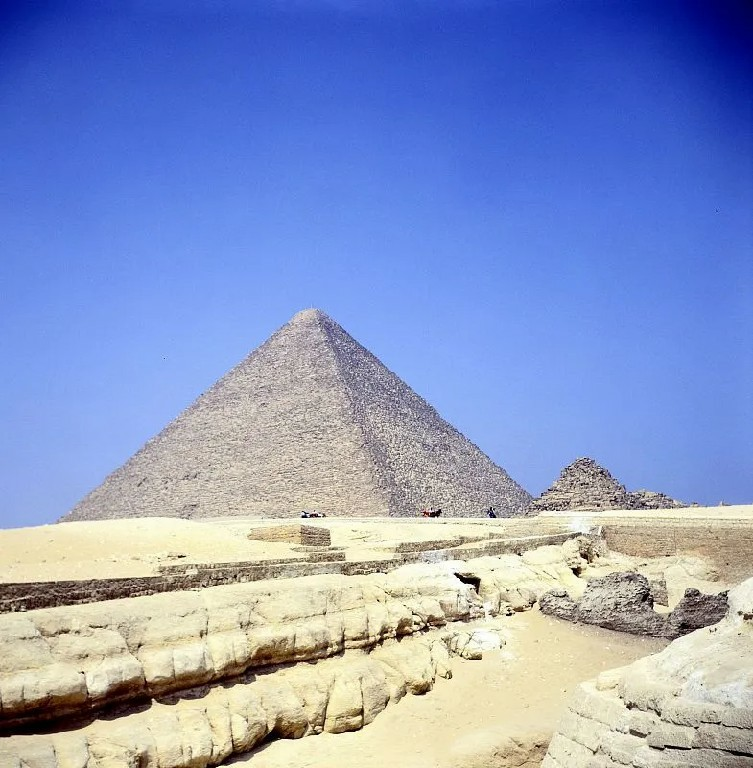Pyramid: (52, 309, 537, 519), (537, 456, 644, 511)
